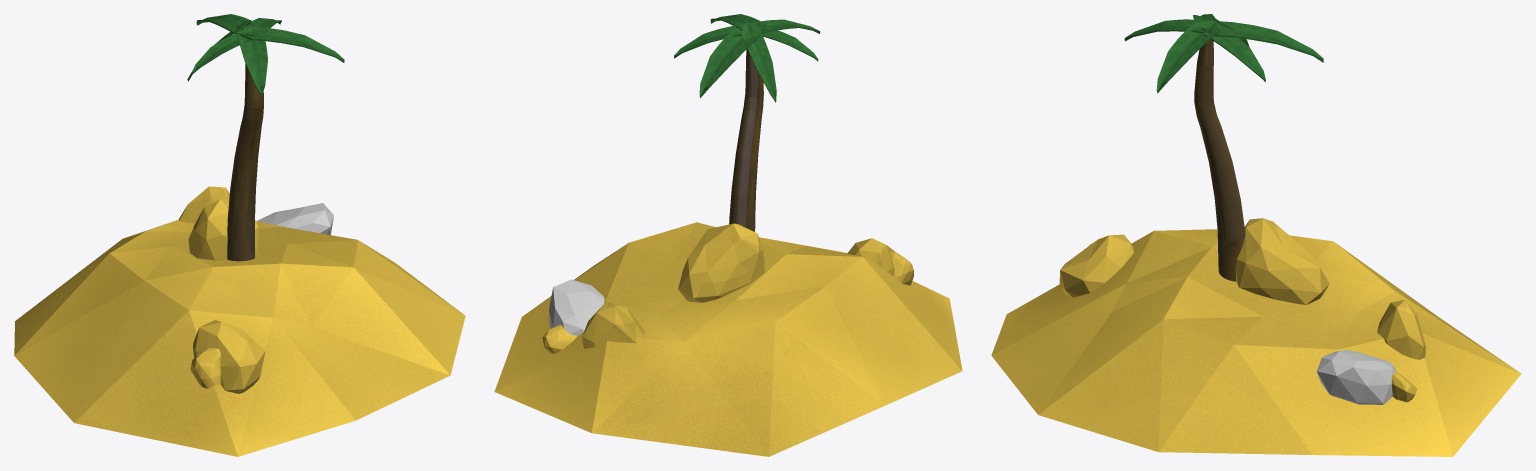
Rendered from island.fbx.
3 views of the same model, side by side, from view 1: azimuth 30°, elevation 25°; view 2: azimuth 150°, elevation 25°; view 3: azimuth 270°, elevation 25° (orthographic). The views are drawn at different scales.
Parts seen in each view (by area): view 1: Icosphere, Cylinder, Icosphere.003, Icosphere.001, Icosphere.005, Plane.003, Plane.002, Icosphere.002, Icosphere.006, Plane.004, Plane; view 2: Icosphere, Icosphere.001, Cylinder, Icosphere.005, Icosphere.006, Plane, Plane.005, Icosphere.003, Icosphere.004, Plane.001, Icosphere.002, Plane.004 (+1 smaller); view 3: Icosphere, Icosphere.001, Cylinder, Icosphere.005, Icosphere.003, Icosphere.006, Plane.002, Plane, Plane.001, Plane.003, Icosphere.004.
Part boxes in pixels (x1,y1,x2,y2): Icosphere: (14,220,465,456); Cylinder: (227,64,263,261); Icosphere.003: (193,320,265,393); Icosphere.001: (188,199,258,260); Icosphere.005: (257,203,333,234); Plane.003: (237,28,267,96); Plane.002: (239,26,344,62); Icosphere.002: (190,348,220,388); Icosphere.006: (178,186,229,223); Plane.004: (192,33,254,73); Plane: (196,14,261,35); Icosphere: (494,222,962,456); Icosphere.001: (678,223,764,302); Cylinder: (729,49,763,231); Icosphere.005: (549,279,604,335); Icosphere.006: (582,301,645,348); Plane: (699,27,760,97); Plane.005: (740,22,776,102); Icosphere.003: (847,238,894,275); Icosphere.004: (542,324,577,353); Plane.001: (674,24,743,58); Icosphere.002: (890,252,913,285); Plane.004: (762,27,818,61); Icosphere: (991,229,1521,456); Icosphere.001: (1235,218,1329,304); Cylinder: (1194,39,1245,281); Icosphere.005: (1317,350,1397,404); Icosphere.003: (1059,234,1133,297); Icosphere.006: (1377,300,1425,359); Plane.002: (1156,21,1218,93); Plane: (1202,21,1323,62); Plane.001: (1204,26,1265,82); Plane.003: (1124,19,1220,41); Icosphere.004: (1392,372,1416,402).
Bounding box in the file's own units: 417 × 354 × 466.
